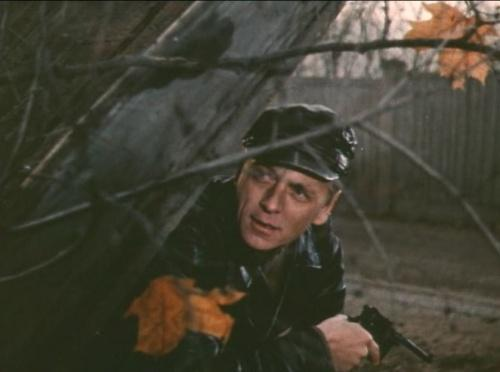Gun: (354, 305, 431, 364)
